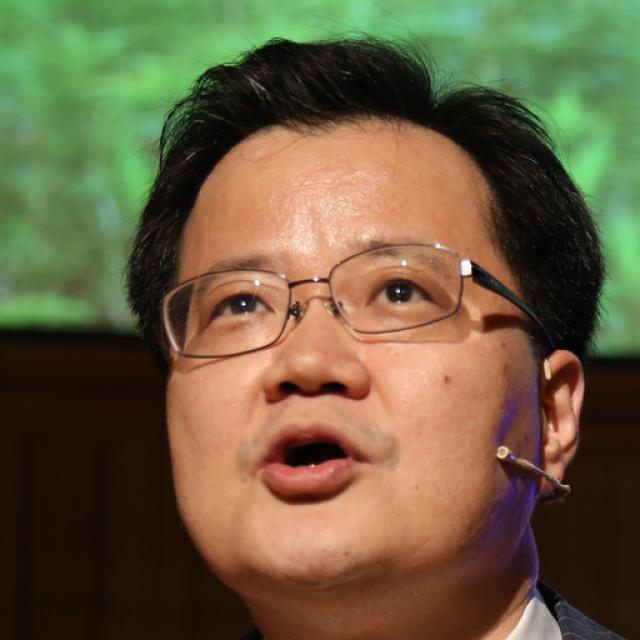Acne: (436, 373, 458, 388)
